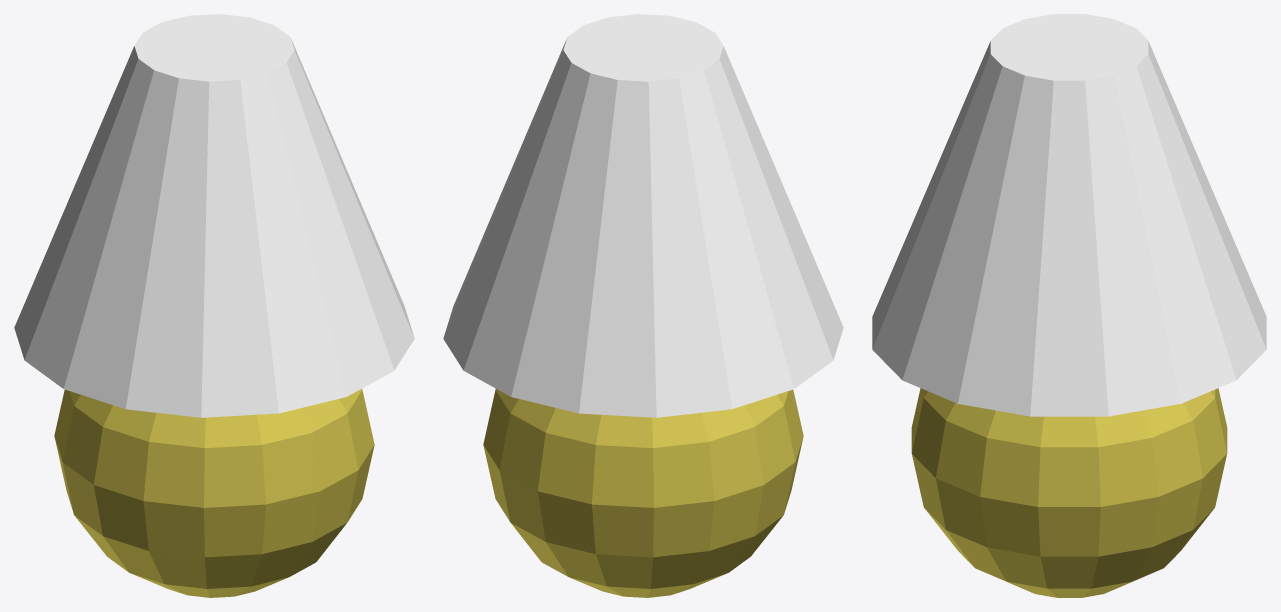
The model's file is lamparaDormitorio.glb.
3 renders of one model, left to right at view 1: azimuth 30°, elevation 25°; view 2: azimuth 150°, elevation 25°; view 3: azimuth 270°, elevation 25°, orthographic.
Visible parts, largest first — view 1: cylinder, sphere; view 2: cylinder, sphere; view 3: cylinder, sphere.
Part boxes in pixels (left/top/right/bottom): cylinder: left=14, top=14, right=414, bottom=417; sphere: left=54, top=389, right=374, bottom=597; cylinder: left=443, top=14, right=843, bottom=417; sphere: left=483, top=389, right=803, bottom=597; cylinder: left=872, top=14, right=1266, bottom=416; sphere: left=911, top=388, right=1227, bottom=597.
Bounding box in the file's own units: 0.1562 × 0.2296 × 0.1562.
Materials: 1 (1 with a texture image).
